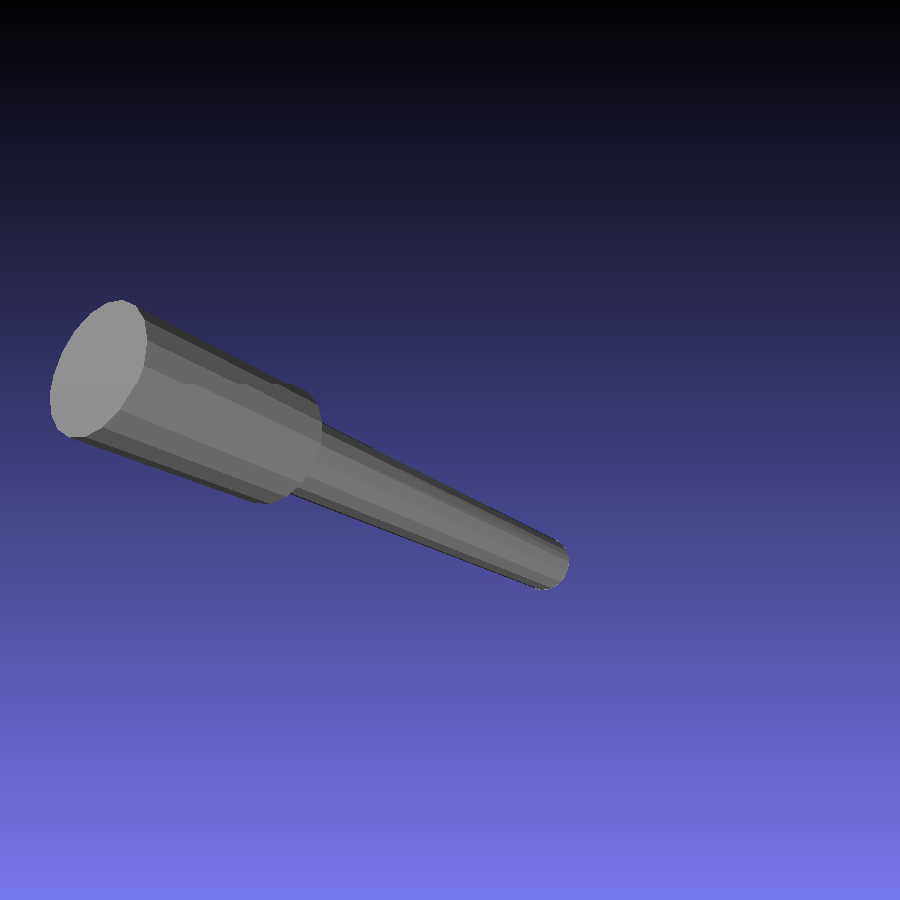cargo_g: (47, 296, 571, 591)
